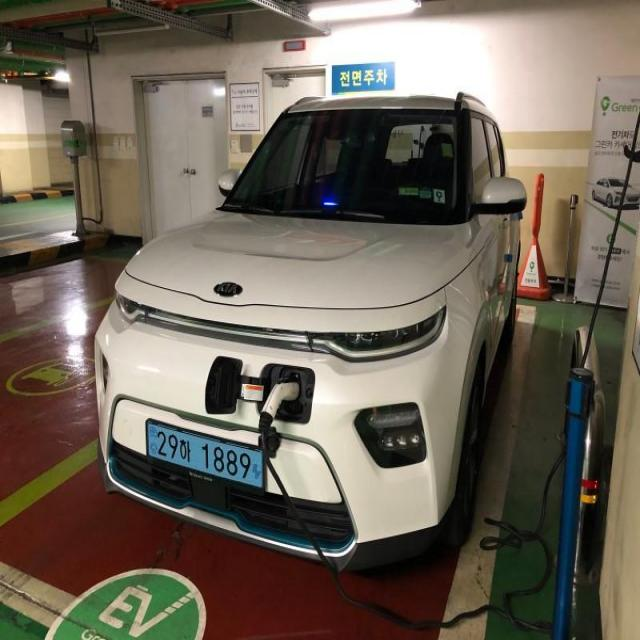EV_plate: (146, 416, 265, 494), (329, 59, 396, 96)
car: (86, 90, 529, 574)
